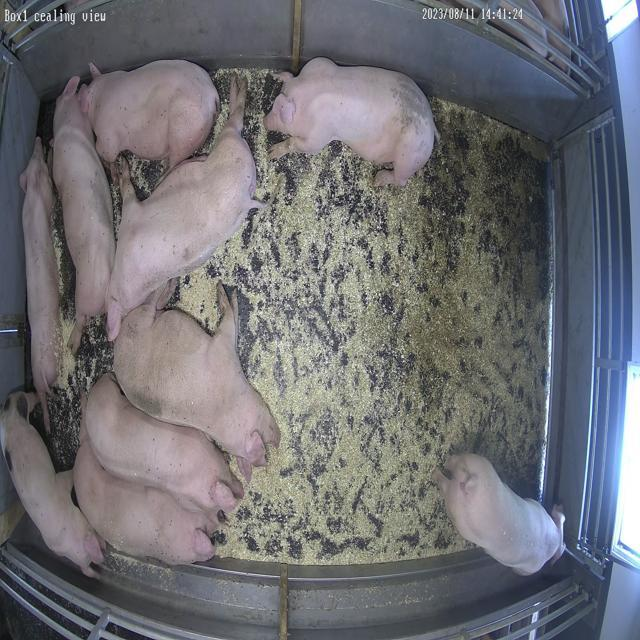Dirt: (372, 100, 550, 420)
Pig: (106, 78, 264, 340), (113, 286, 280, 476), (84, 374, 244, 512), (265, 57, 437, 185), (0, 393, 104, 578), (73, 442, 219, 566), (52, 76, 115, 350), (438, 455, 564, 576), (86, 59, 219, 168), (22, 140, 58, 400)
